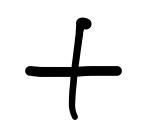plus: (20, 17, 123, 118)
